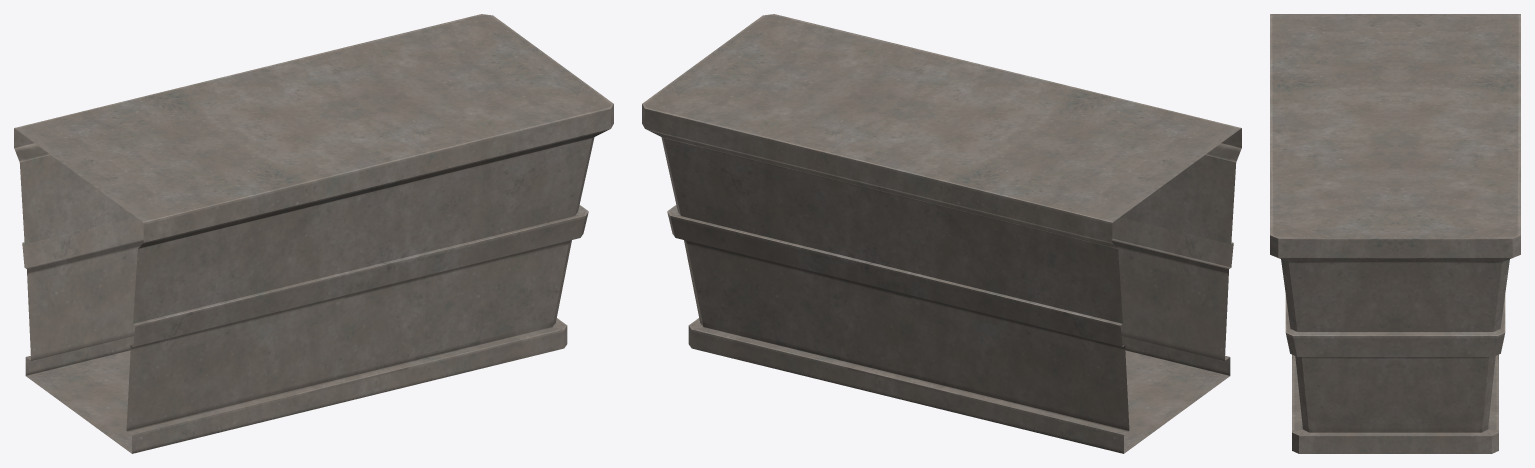
File: sb_obj_outdoor009_AncientTemple_WallTopParts01C.fbx
The picture shows the model from 3 angles, left to right: view 1: azimuth 30°, elevation 25°; view 2: azimuth 150°, elevation 25°; view 3: azimuth 270°, elevation 25°; orthographic projection. The views are drawn at different scales.
Parts seen in each view (by area): view 1: sb_obj_outdoor009_AncientTemple_WallTopParts01C; view 2: sb_obj_outdoor009_AncientTemple_WallTopParts01C; view 3: sb_obj_outdoor009_AncientTemple_WallTopParts01C.
Boxes of the visible parts, <box> form: sb_obj_outdoor009_AncientTemple_WallTopParts01C: <box>14,14,613,453</box>; sb_obj_outdoor009_AncientTemple_WallTopParts01C: <box>642,14,1241,453</box>; sb_obj_outdoor009_AncientTemple_WallTopParts01C: <box>1270,14,1520,453</box>.
Size of the model in its own units: 4.11 by 1.98 by 1.94.
